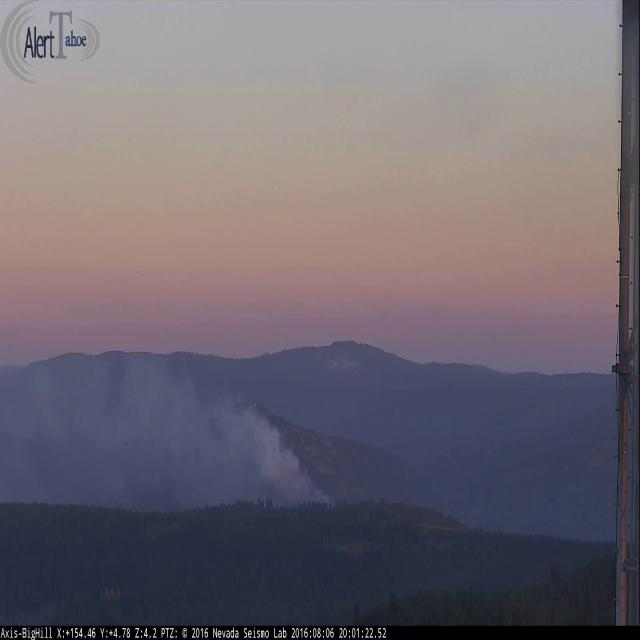smoke: (0, 295, 347, 525)
